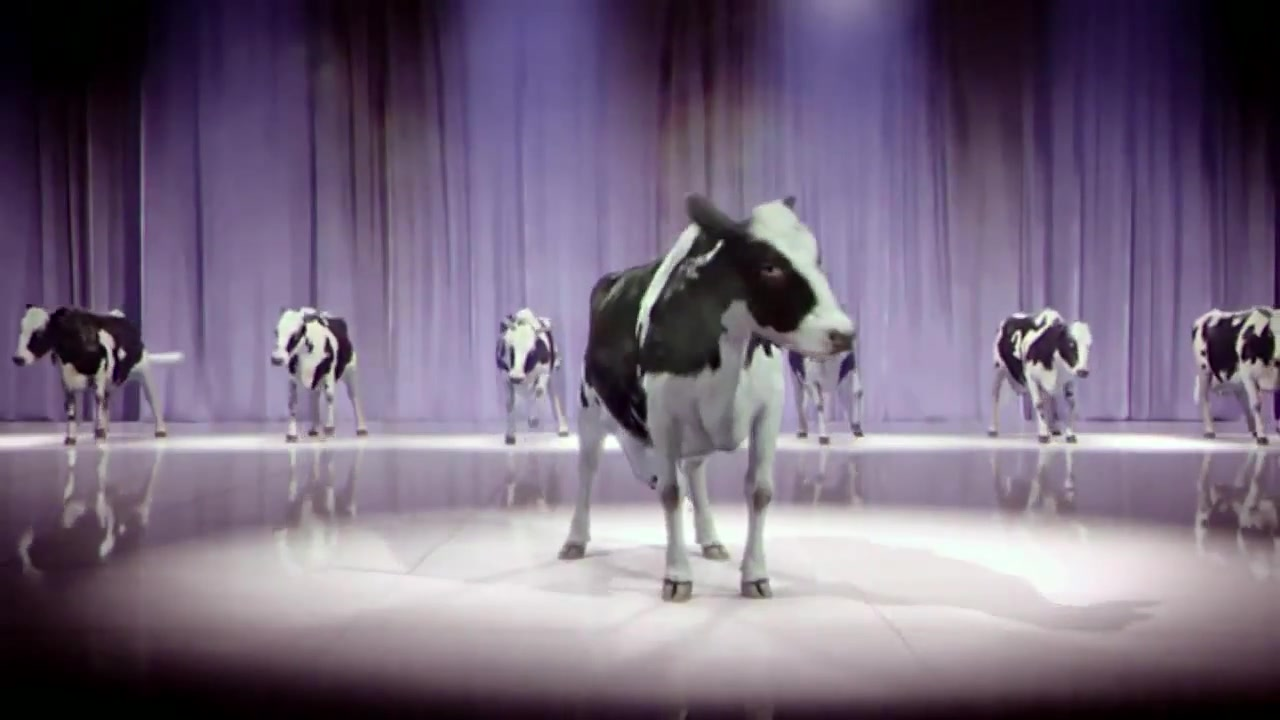cow: (561, 190, 857, 608)
